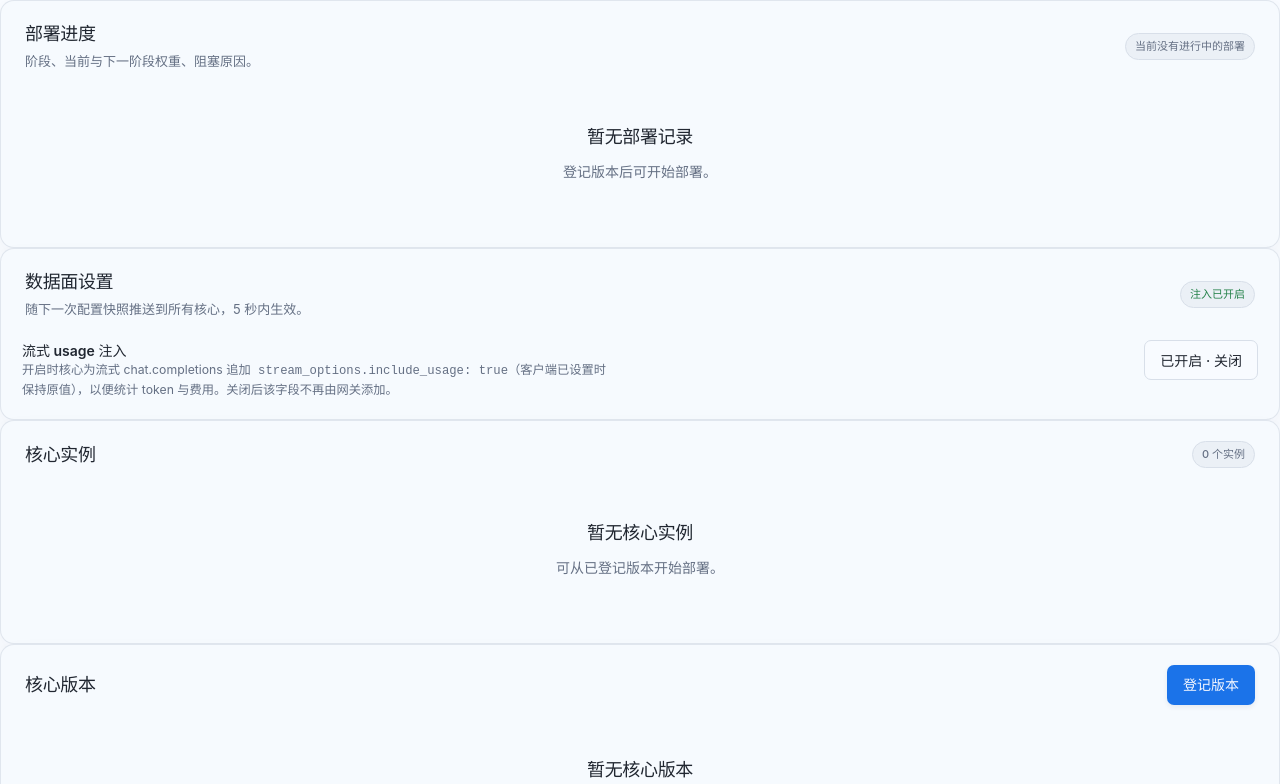
Test: confirms before disabling stream usage injection
Click the switch named "流式 usage 注入": click(1201, 360) [1144,340,1258,380]
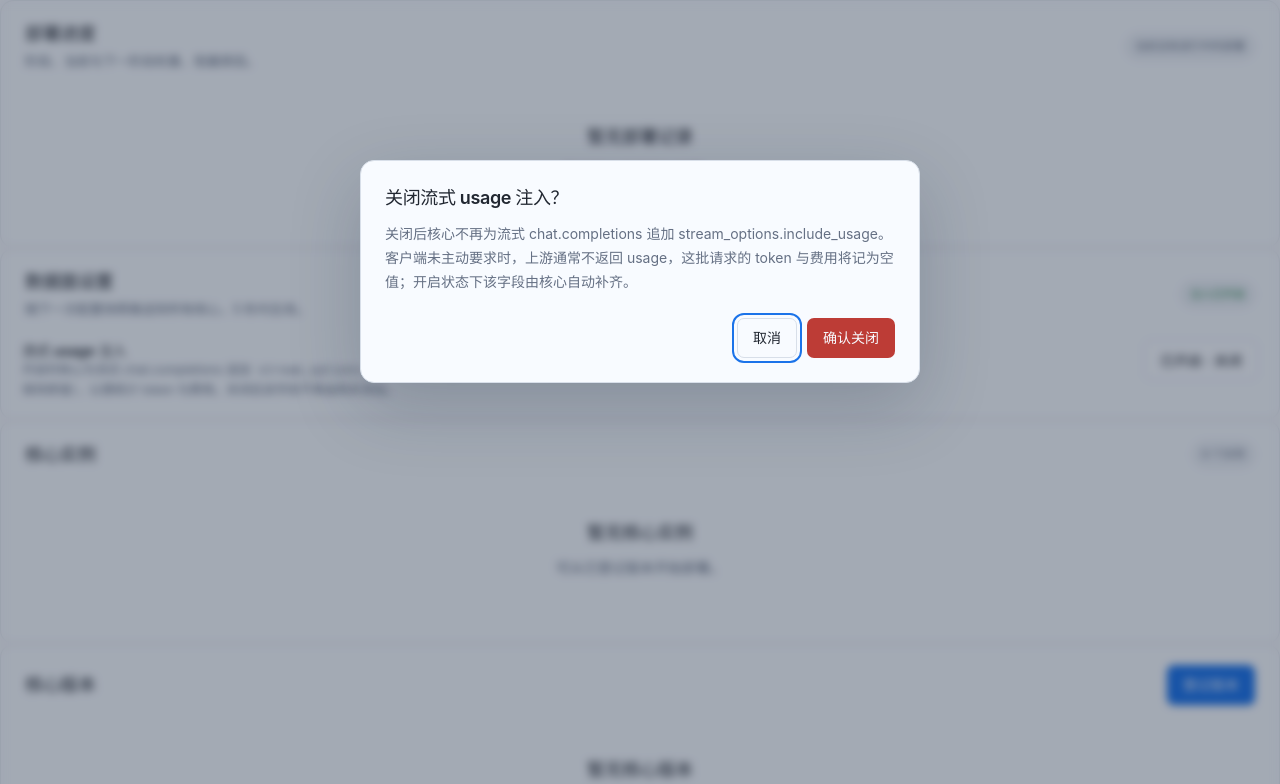
Click the button "确认关闭": click(851, 338) [807,318,895,358]
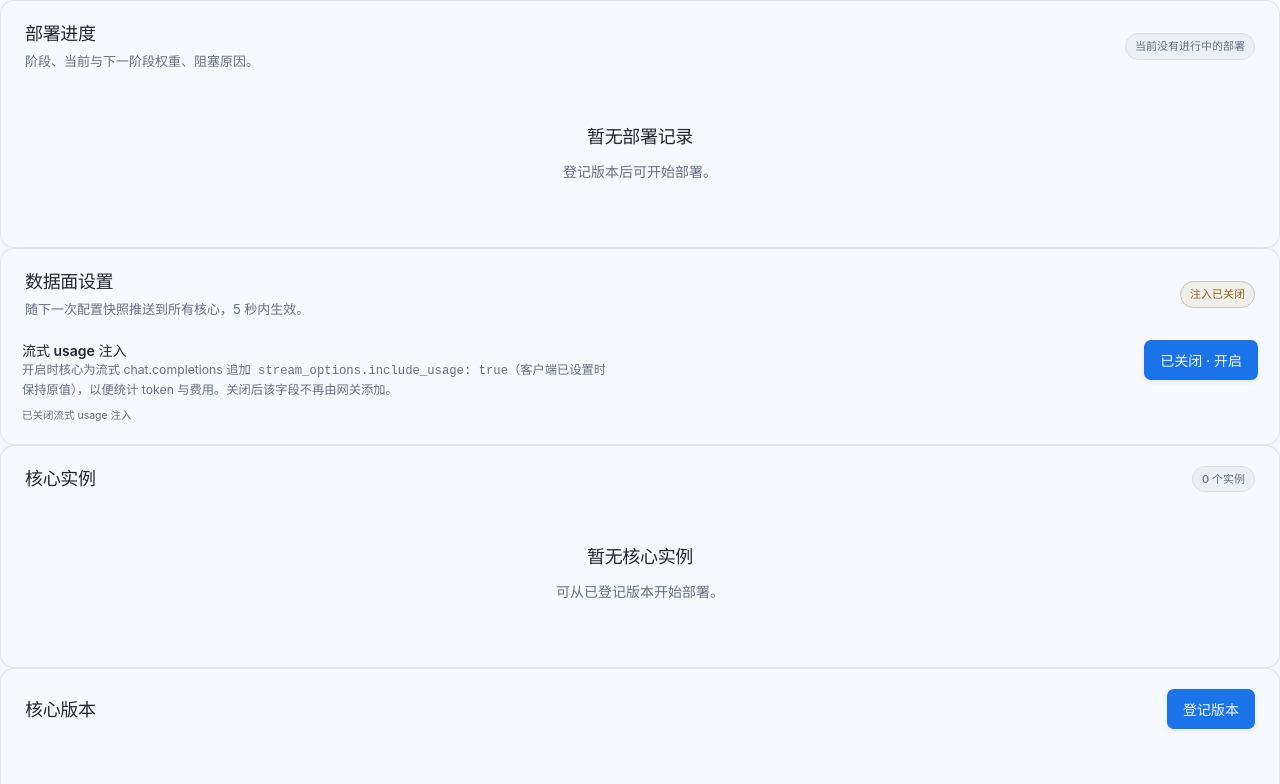
Check: the text "注入已关闭" is shown, box [1180,281,1255,308]
Click the switch named "流式 usage 注入": click(1201, 360) [1144,340,1258,380]
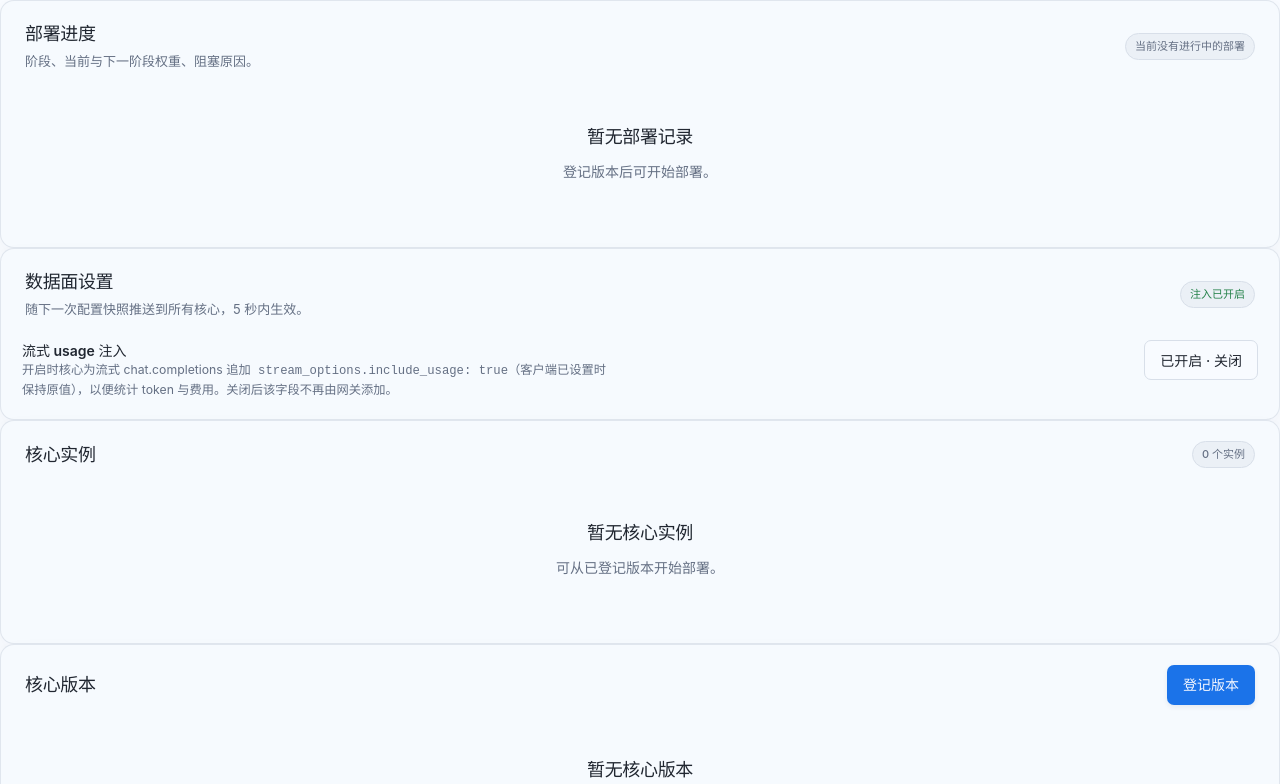
Check: the switch named "流式 usage 注入" is checked, box [1144,340,1258,380]
